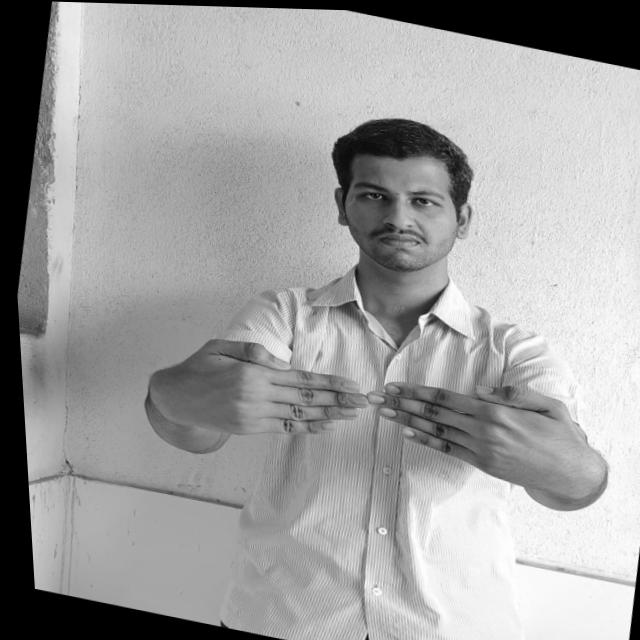Night: (144, 312, 592, 499)
